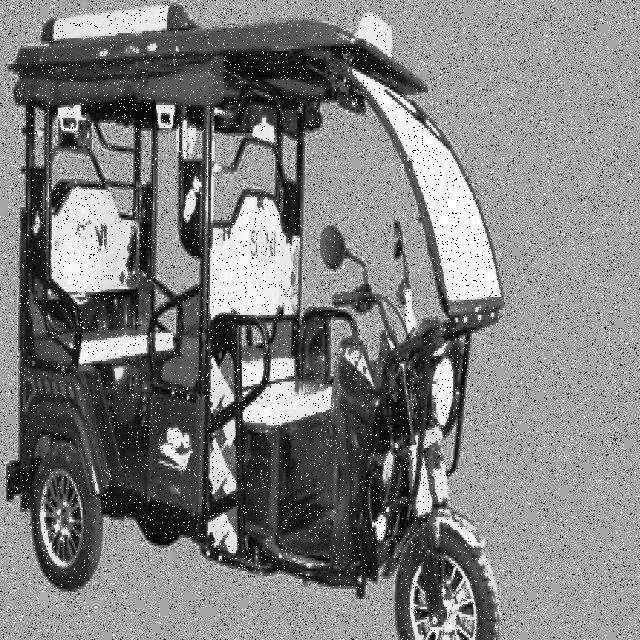Toto: (12, 18, 498, 640)
